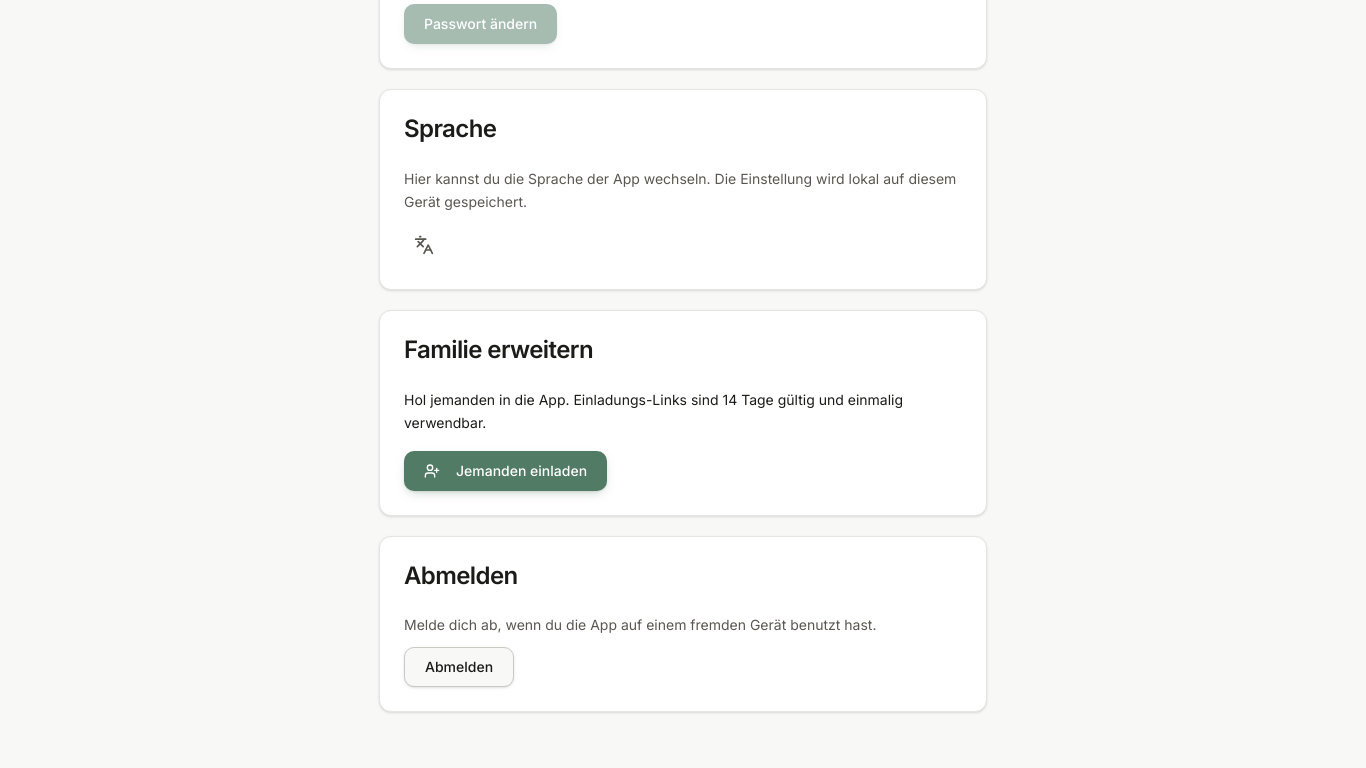
Test case: <ProfilePage /> › opens the InviteDialog when "Jemanden einladen" is clicked
The width and height of the screenshot is (1366, 768).
(page scrolled)
Click the button "Jemanden einladen": (506, 471) [404, 451, 607, 491]
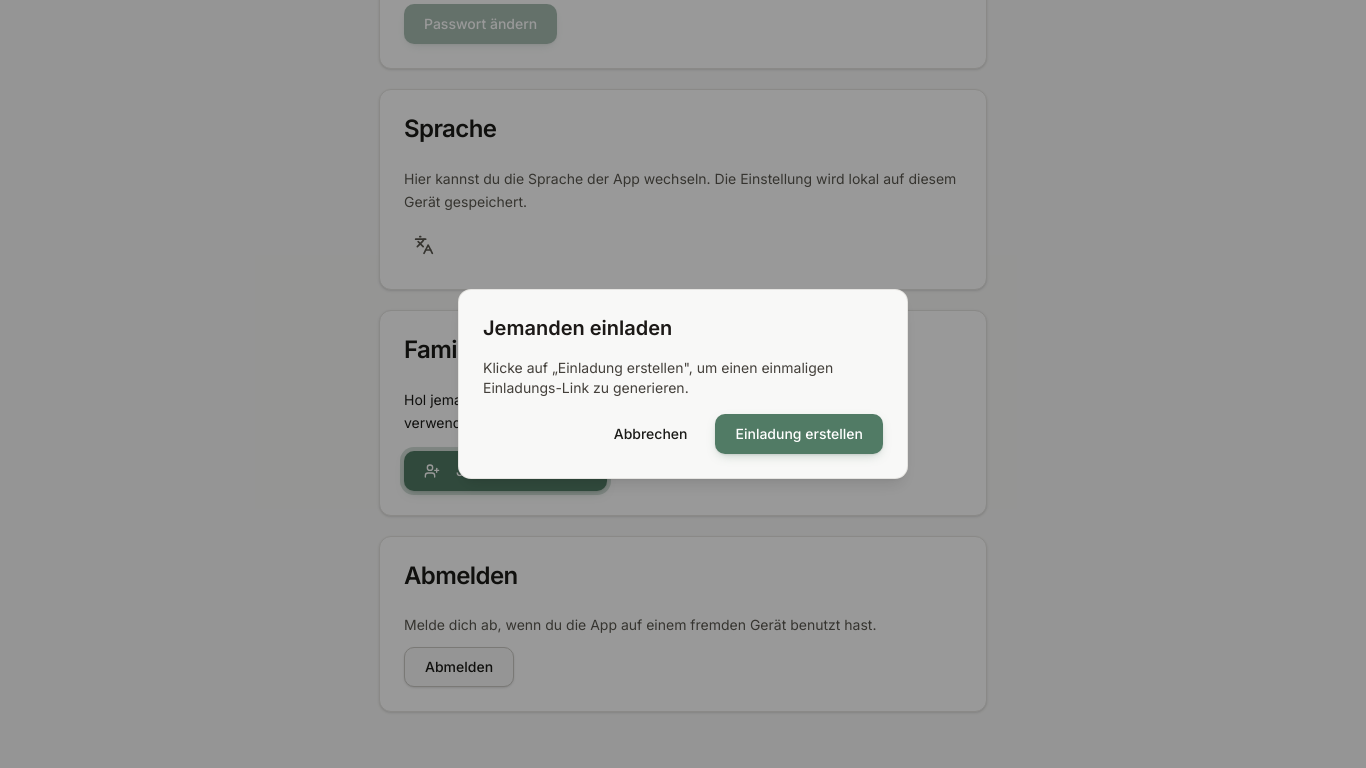
Result: the dialog "Jemanden einladen" is shown
